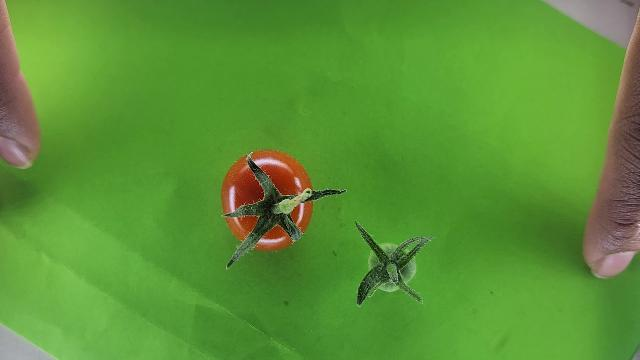Fruit Maturation: (368, 242, 419, 291)
Fully Grown: (221, 149, 317, 251)
